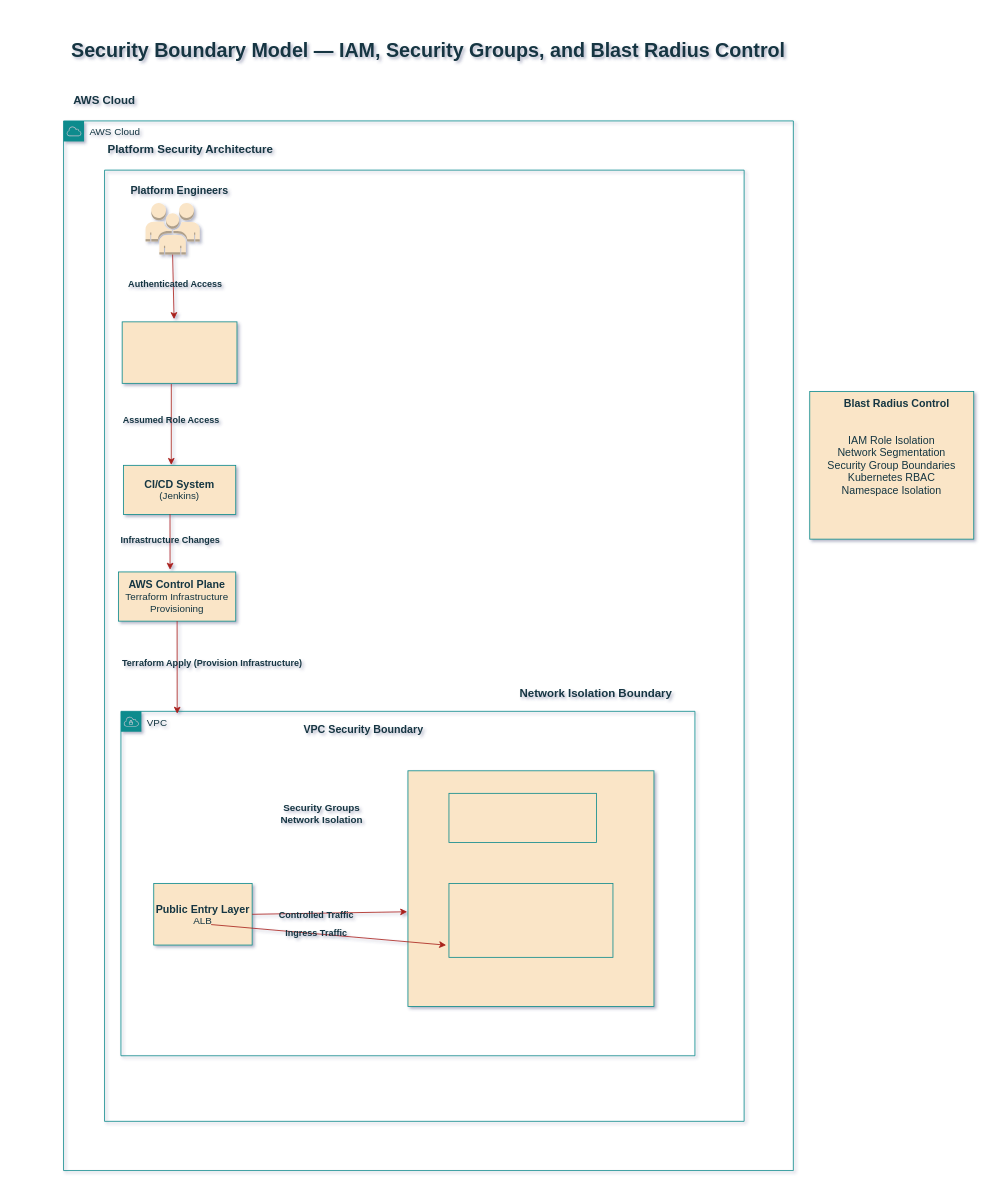
The diagram is 993 pixels wide and 1190 high, and some of its shapes have lost their labels. The shapes that lost their labels are listed below. From the top down, each one's centre as x and y in pixels, then its label:
At (x=179, y=352): "IAM Access Boundary IAM Roles Least Privilege Policies AssumeRole Access".
At (x=522, y=818): "Private Runtime Layer EKS Cluster Application Workloads".
At (x=530, y=920): "Kubernetes Security Boundary Namespaces Service Accounts RBAC Pod Isolation".
